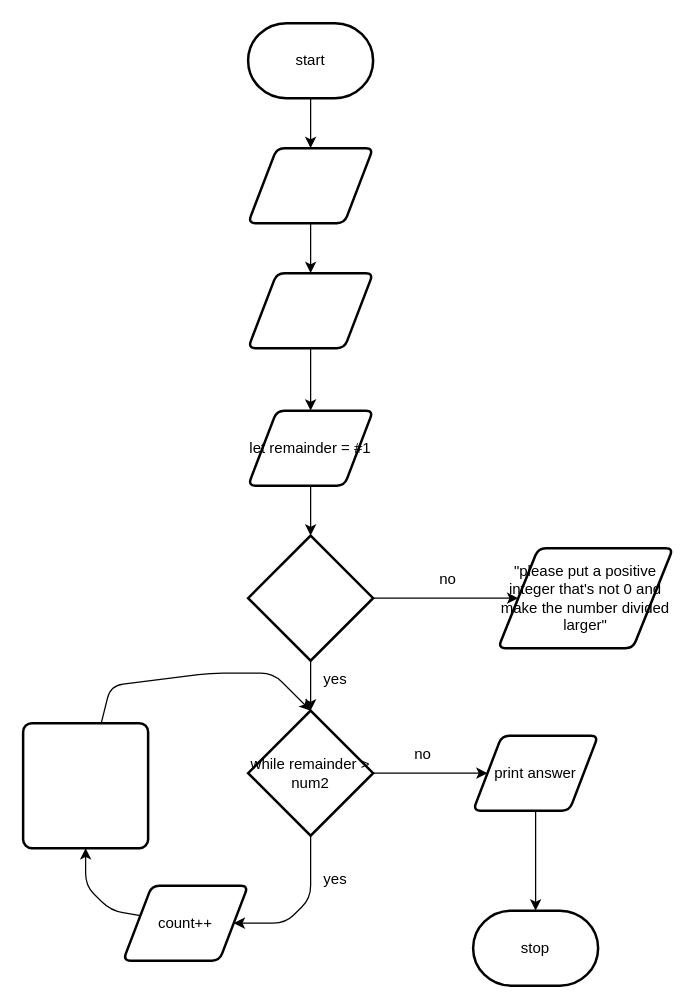
This 695x1008 diagram has some shape labels left out. Here are the shapes that lost their labels. From the top down, the centre of each, then its label:
point (310, 185): Number#1
point (310, 310): Number#2
point (310, 597): if #1 > 0 || #2 > 0
point (85, 785): remainder -= #1
